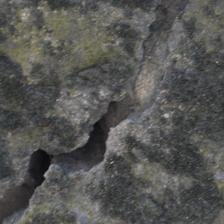Crack: (4, 6, 177, 209)
